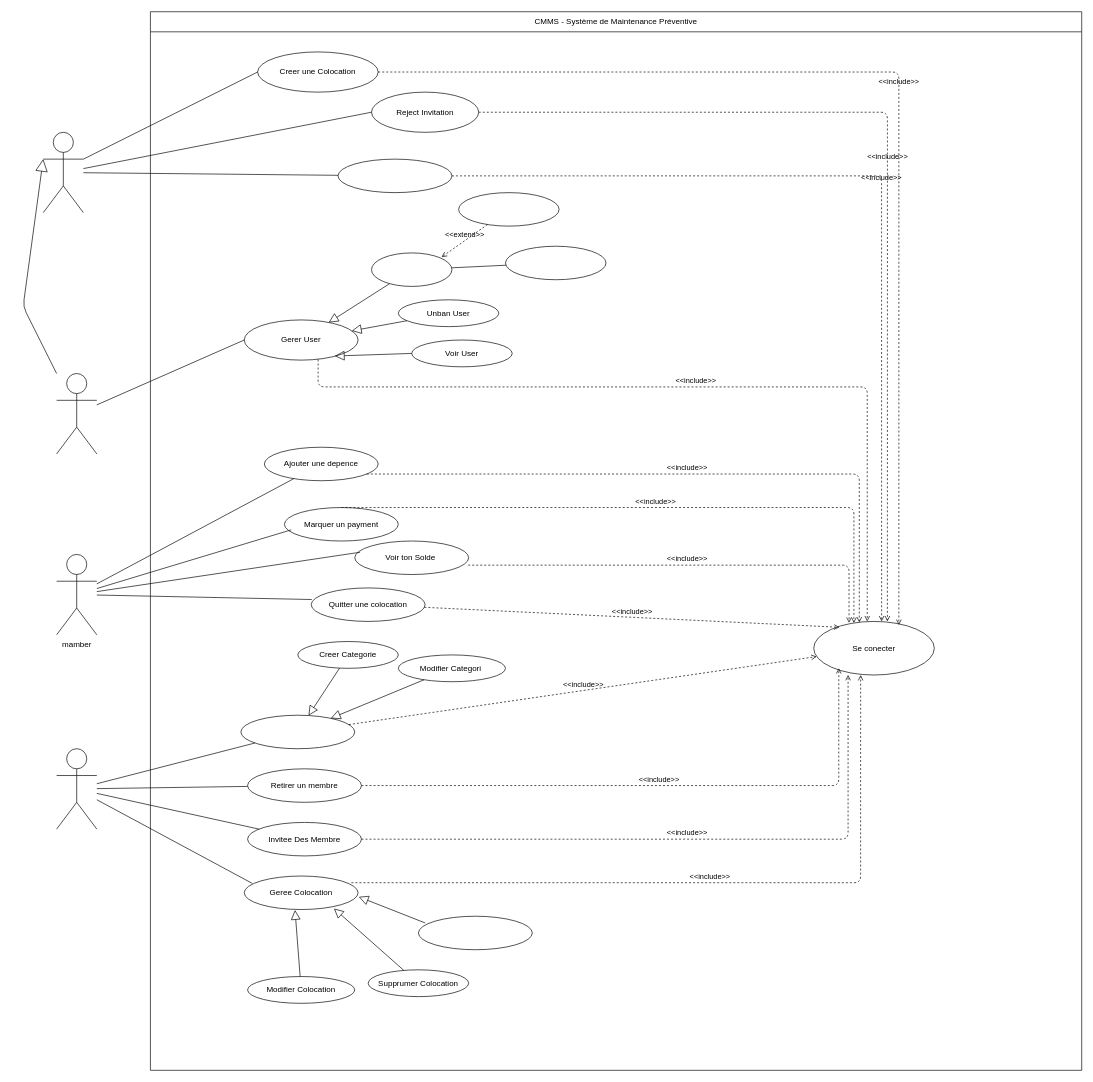
The diagram is 1093 pixels wide and 1082 high, and some of its shapes have lost their labels. The shapes that lost their labels are listed below. From the top down, each one's centre as x and y in pixels, then its label:
the point at 63,172: User
the point at 394,175: Accepter Invitation
the point at 508,209: make reasaun for ban
the point at 411,269: Ban User
the point at 555,263: Transfer Ownership
the point at 76,413: Admin
the point at 297,732: Geree les Categorie
the point at 76,788: Owner
the point at 475,933: View Colocation Details
